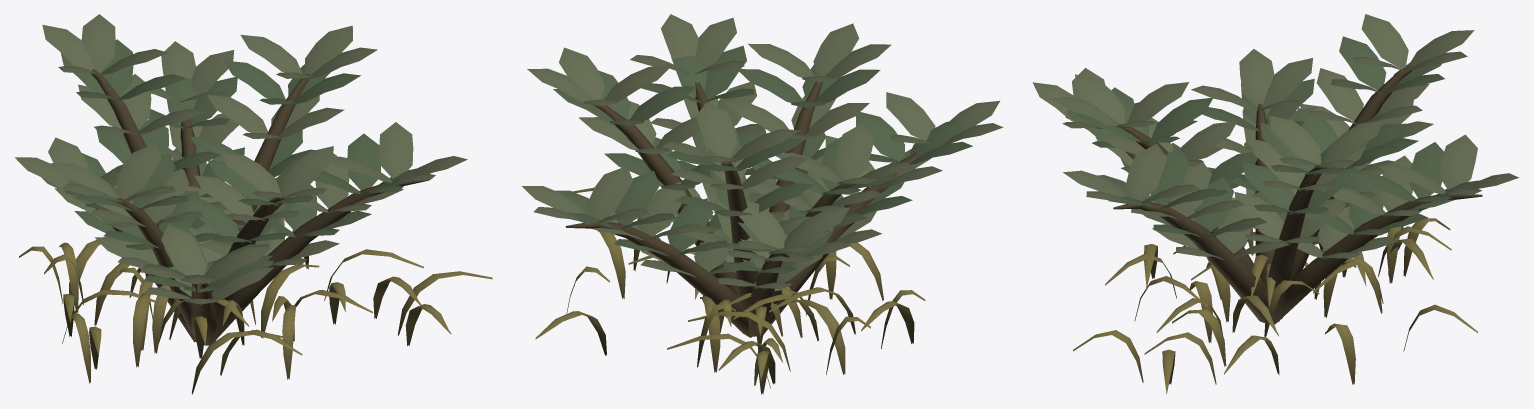
The model's file is sage-fan.glb.
3 renders of one model, left to right at view 1: azimuth 30°, elevation 25°; view 2: azimuth 150°, elevation 25°; view 3: azimuth 270°, elevation 25°, orthographic.
Visible parts, largest first — view 1: LAND03 sage-fan; view 2: LAND03 sage-fan; view 3: LAND03 sage-fan.
Boxes of the visible parts, x1,y1,x2,y2 form: LAND03 sage-fan: (15, 14, 492, 394); LAND03 sage-fan: (522, 14, 1003, 394); LAND03 sage-fan: (1032, 14, 1518, 393).
Bounding box in the file's own units: 1.35 × 0.8494 × 1.44.
